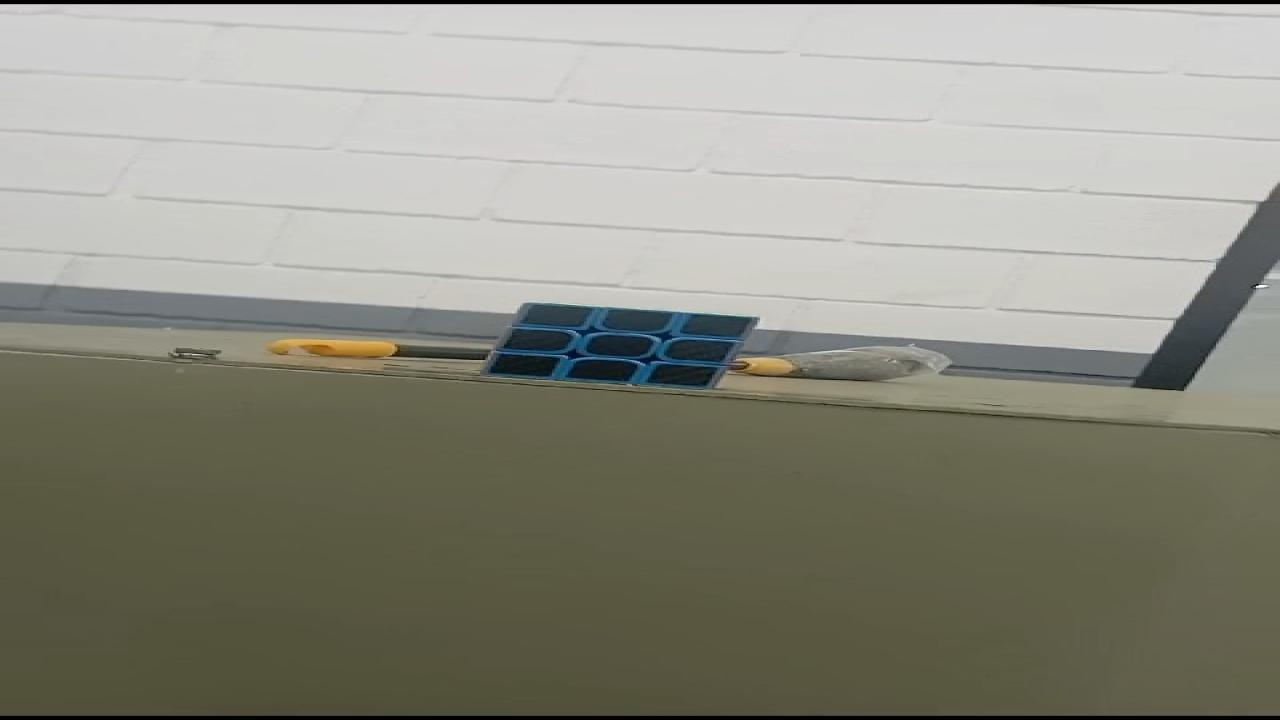Cube: (474, 301, 760, 390)
